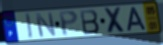A: (126, 7, 148, 33)
B: (79, 9, 101, 36)
I: (24, 12, 35, 40)
N: (34, 12, 58, 39)
P: (58, 9, 80, 37)
X: (102, 7, 127, 35)
